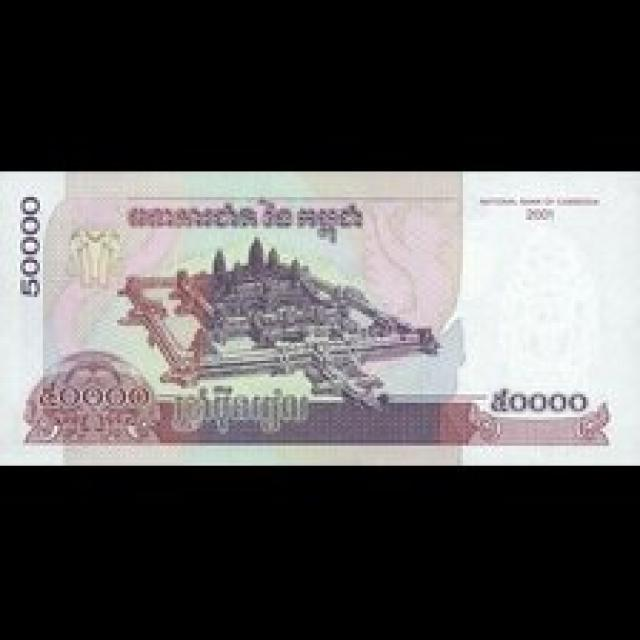banknote: (0, 173, 640, 460), (12, 191, 50, 316)
